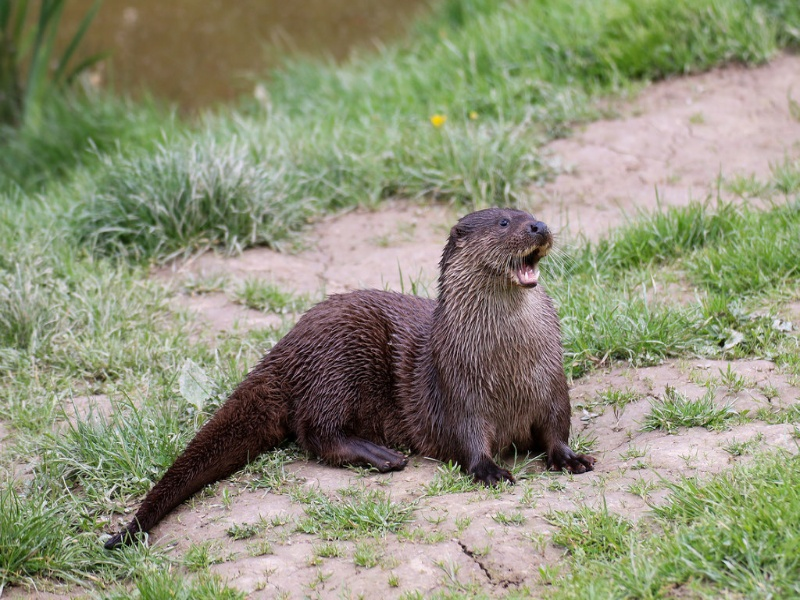minkish: (102, 208, 595, 546)
